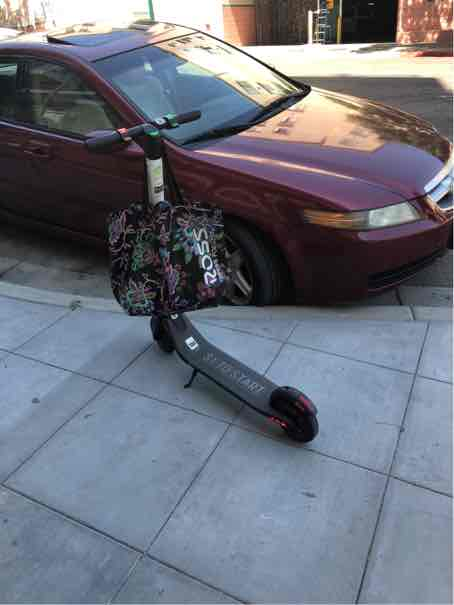scooter: (75, 101, 334, 450)
